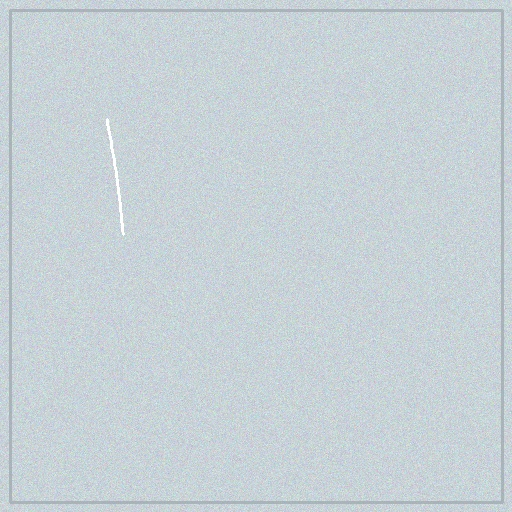scratch: (102, 114, 128, 239)
